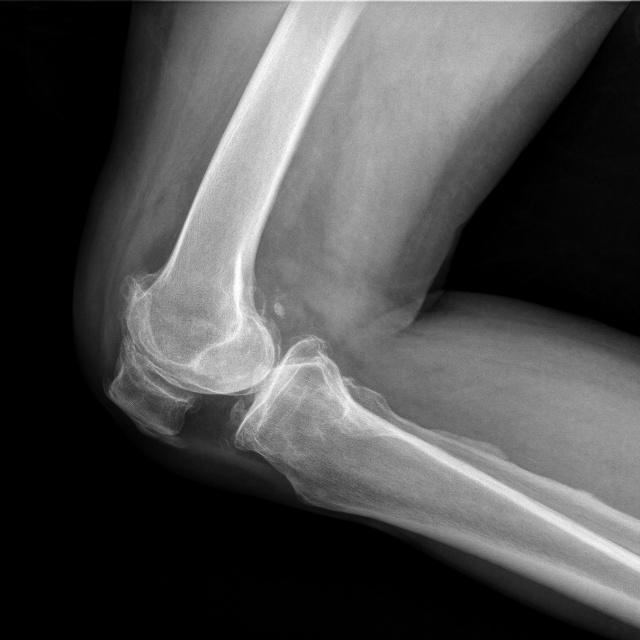Knee: (102, 263, 339, 476)
